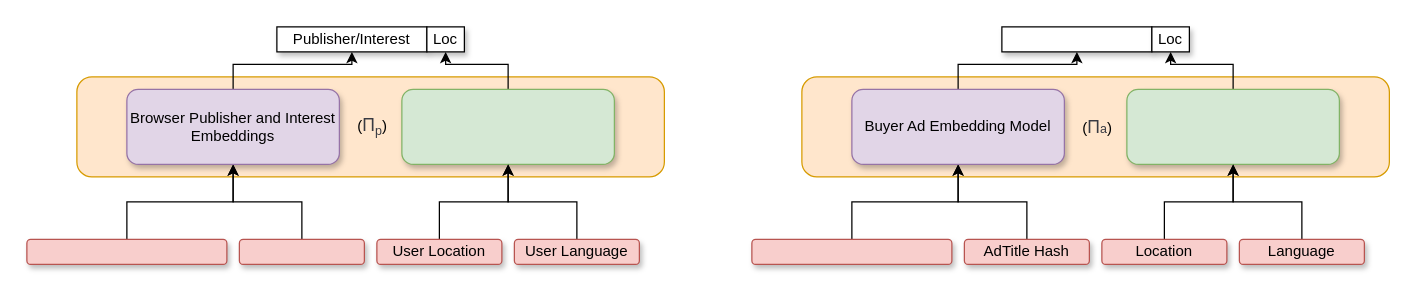
The diagram is 1411 pixels wide and 295 high, and some of its shapes have lost their labels. Here are the shapes that lost their labels. From the top down, the centre of each, then its label:
the point at 1077,41: Publisher/Ad
the point at 509,128: Browser Location Embeddings
the point at 1234,128: Buyer Ad Targeting Embeddings
the point at 127,253: Publisher Domain Hash
the point at 302,253: Interest Groups
the point at 852,253: Advertiser Domain Hash
